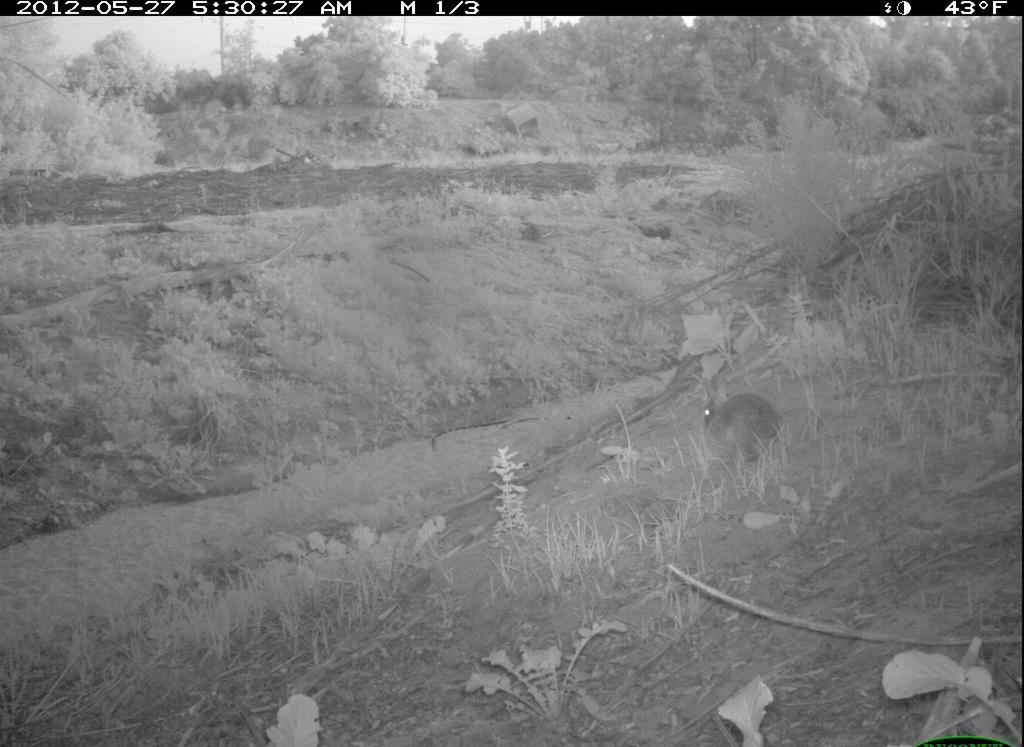rabbit: (697, 372, 790, 466)
